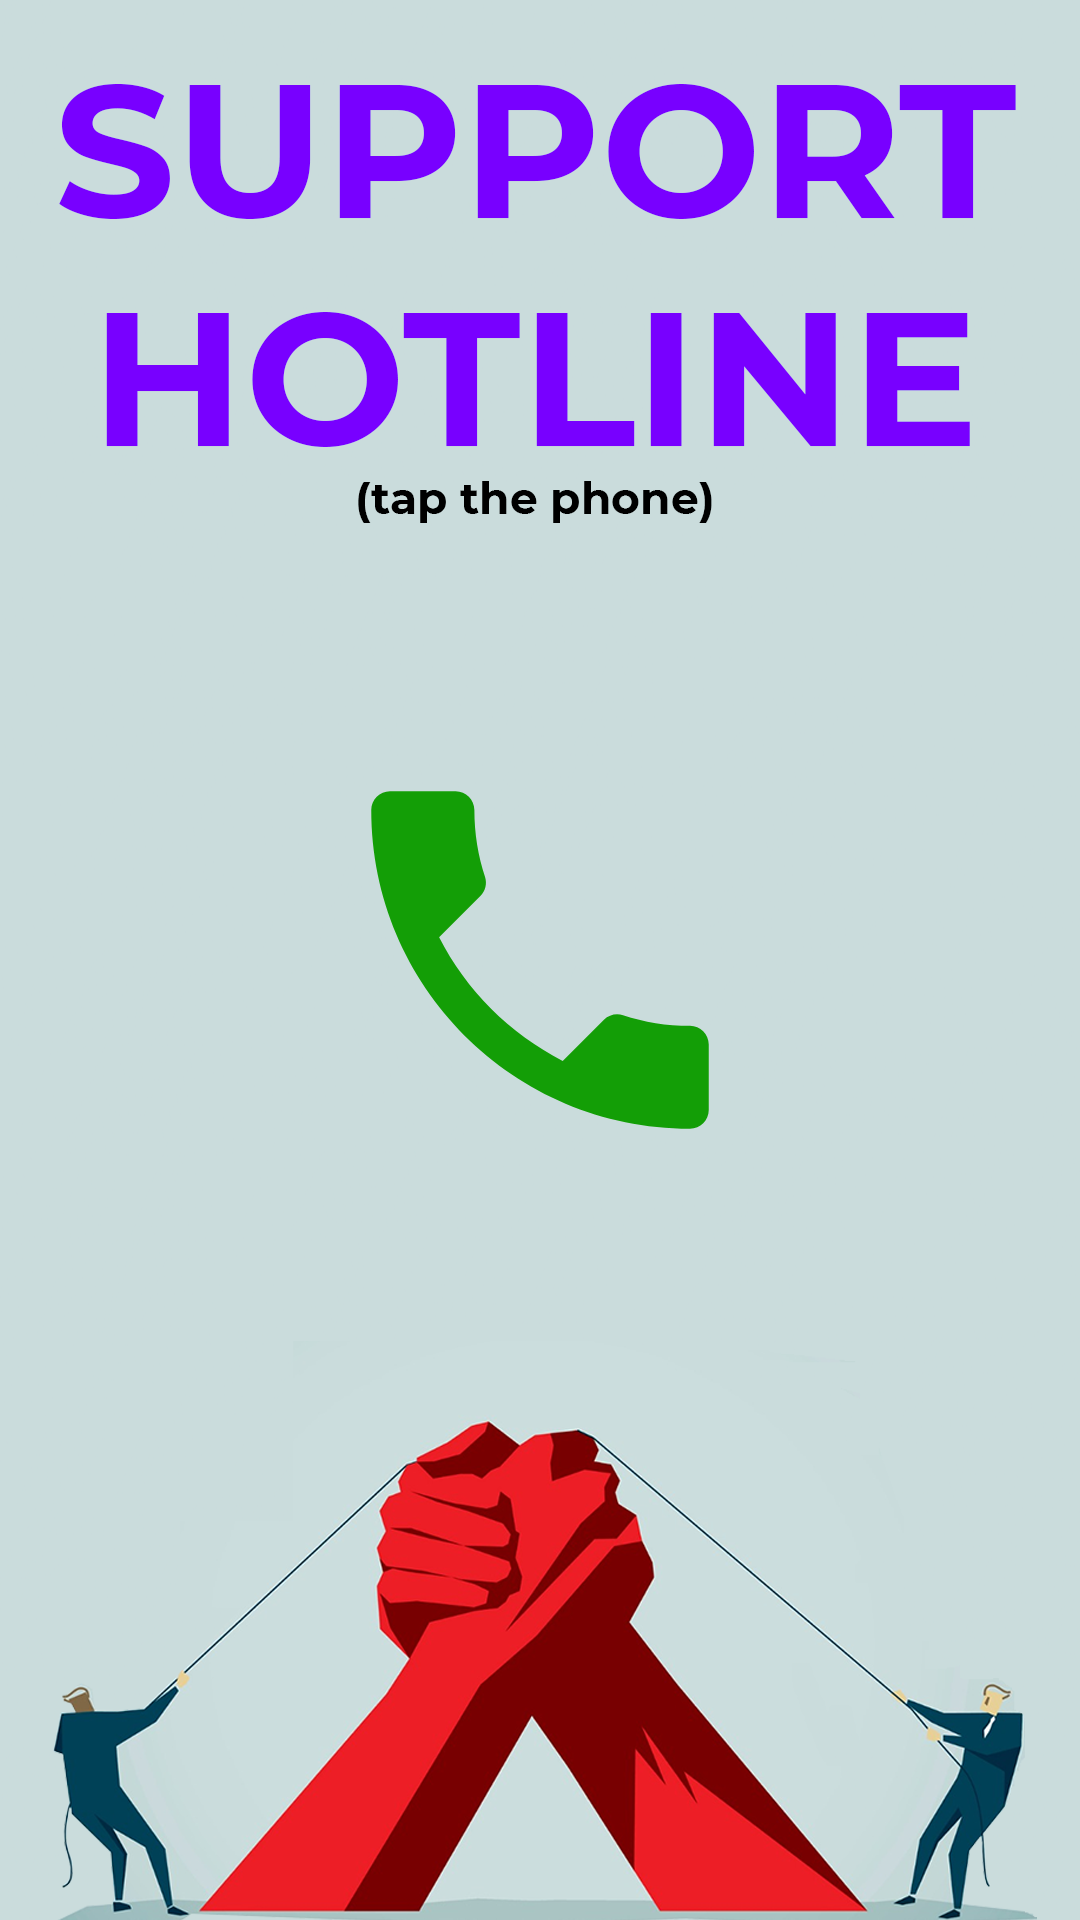

Named icons in this screenshot (1080w x 1920h) and their centers, point (x, y):
phone: point (540, 960)
